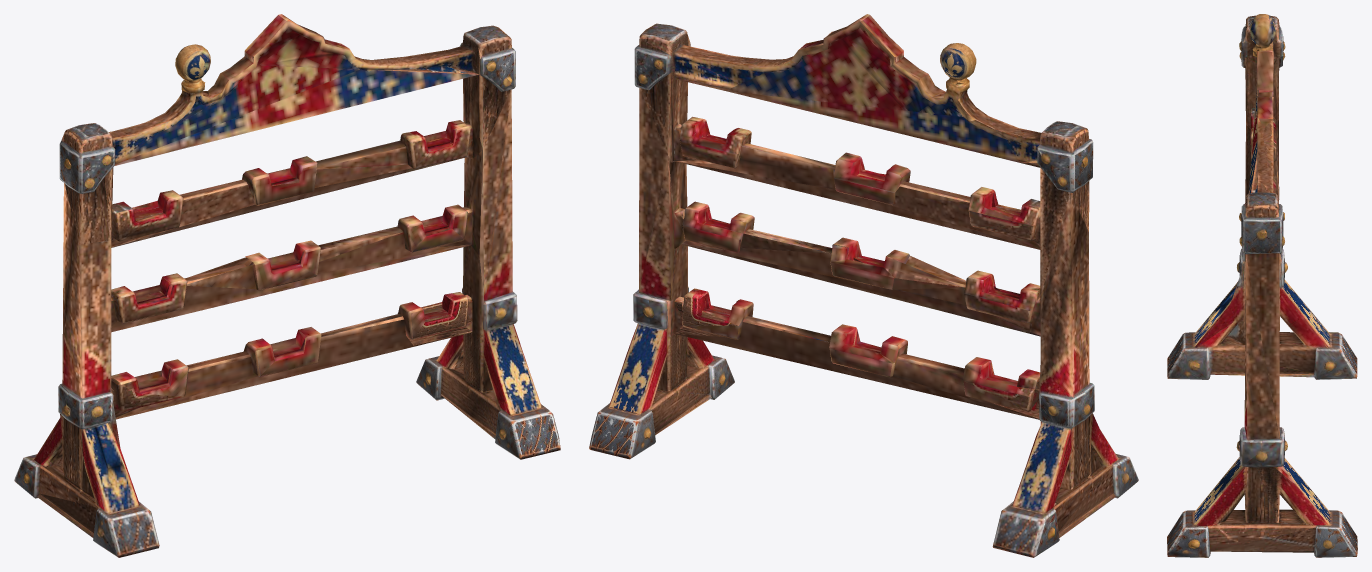
Rendered from horizontal_rack.glb.
3 views of the same model, side by side, from view 1: azimuth 30°, elevation 25°; view 2: azimuth 150°, elevation 25°; view 3: azimuth 270°, elevation 25° (orthographic). The views are drawn at different scales.
Parts seen in each view (by area): view 1: mesh_0; view 2: mesh_0; view 3: mesh_0.
Part boxes in pixels (box(x1,y1,x2,y2)): mesh_0: box(14, 14, 560, 557); mesh_0: box(589, 14, 1138, 557); mesh_0: box(1167, 14, 1357, 557).
Size of the model in its own units: 2 by 1.89 by 0.8038.
Materials: 1 (1 with a texture image).
